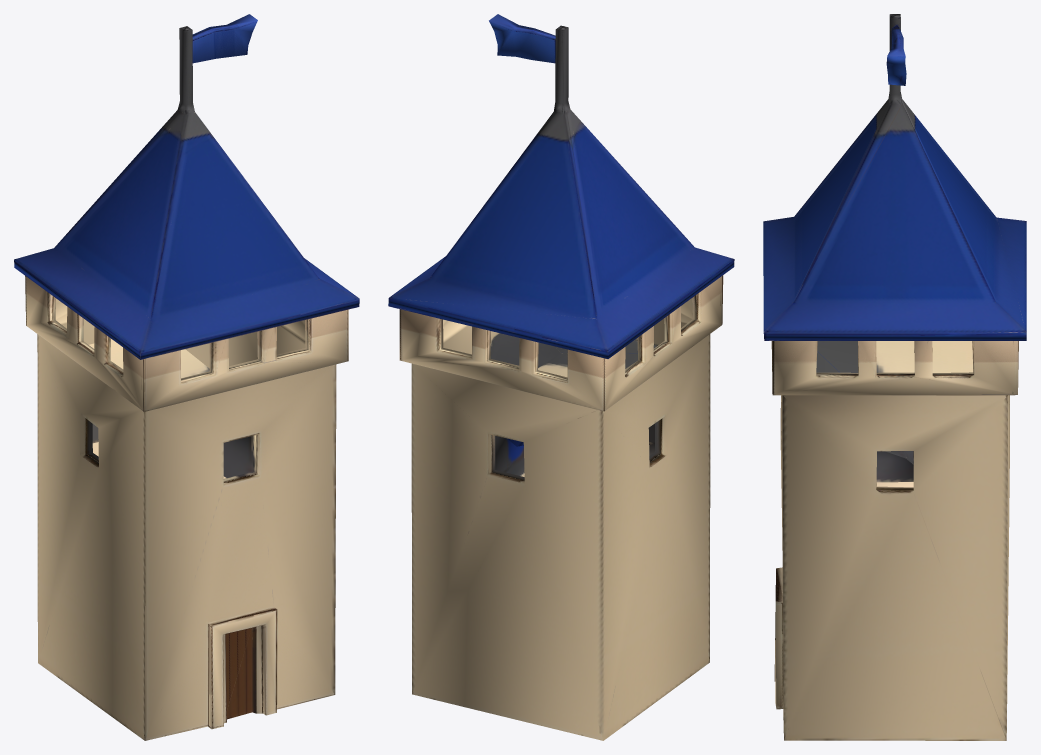
Rendered from meshy-b-550.glb.
The picture shows the model from 3 angles, left to right: view 1: azimuth 30°, elevation 25°; view 2: azimuth 150°, elevation 25°; view 3: azimuth 270°, elevation 25°; orthographic projection. The views are drawn at different scales.
Bounding box in the file's own units: 0.3534 × 1 × 0.3532.
Materials: 1 (1 with a texture image).
